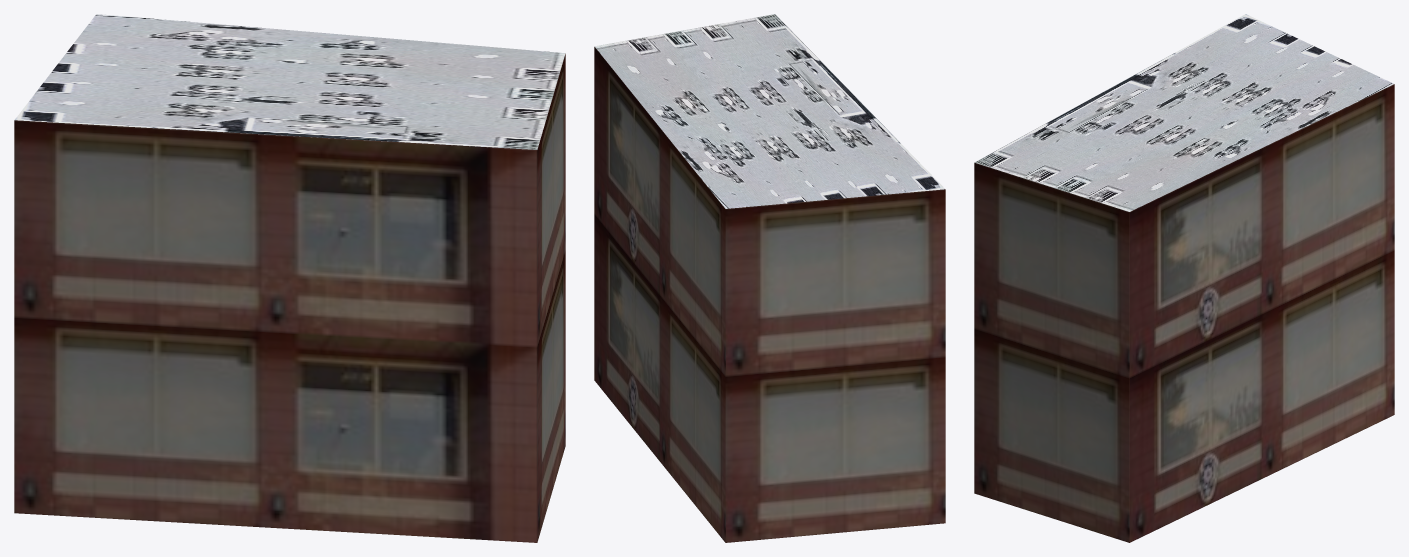
Rendered from ResTex__4961.fbx.
3 renders of one model, left to right at view 1: azimuth 30°, elevation 25°; view 2: azimuth 150°, elevation 25°; view 3: azimuth 270°, elevation 25°, orthographic. The views are drawn at different scales.
Visible parts, largest first — view 1: CityEngineMaterial_13_m, CityEngineMaterial_4_m; view 2: CityEngineMaterial_13_m, CityEngineMaterial_4_m; view 3: CityEngineMaterial_13_m, CityEngineMaterial_4_m.
Boxes of the visible parts, bbox=[...] form: CityEngineMaterial_13_m: bbox=[14, 54, 565, 542]; CityEngineMaterial_4_m: bbox=[14, 14, 565, 149]; CityEngineMaterial_13_m: bbox=[594, 47, 945, 542]; CityEngineMaterial_4_m: bbox=[594, 14, 944, 208]; CityEngineMaterial_13_m: bbox=[974, 84, 1394, 542]; CityEngineMaterial_4_m: bbox=[975, 14, 1393, 211].
Bounding box in the file's own units: 7.71 × 6 × 6.91.
Materials: 2 (2 with a texture image).
